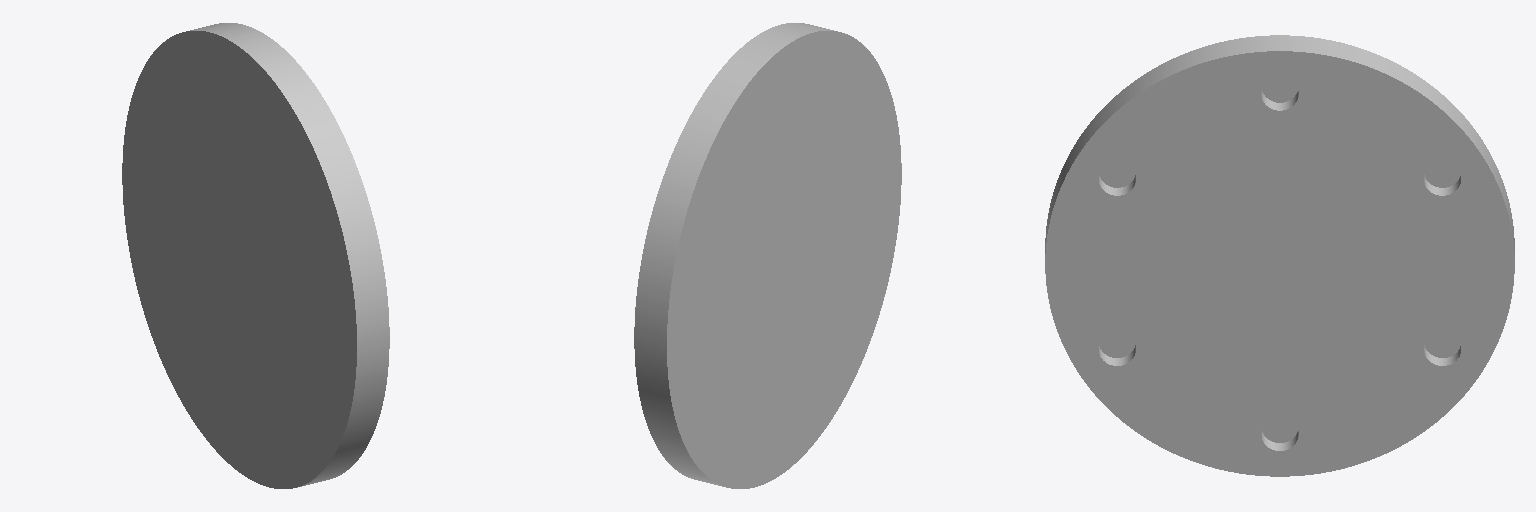
Rendered from Bone6.obj.
3 renders of one model, left to right at view 1: azimuth 30°, elevation 25°; view 2: azimuth 150°, elevation 25°; view 3: azimuth 270°, elevation 25°, orthographic.
Visible parts, largest first — view 1: Bone6; view 2: Bone6; view 3: Bone6.
Boxes of the visible parts, x1=… form: Bone6: x1=122, y1=23, x2=389, y2=488; Bone6: x1=634, y1=23, x2=901, y2=488; Bone6: x1=1045, y1=35, x2=1514, y2=476.
Bounding box in the file's own units: 10 × 125 × 125.